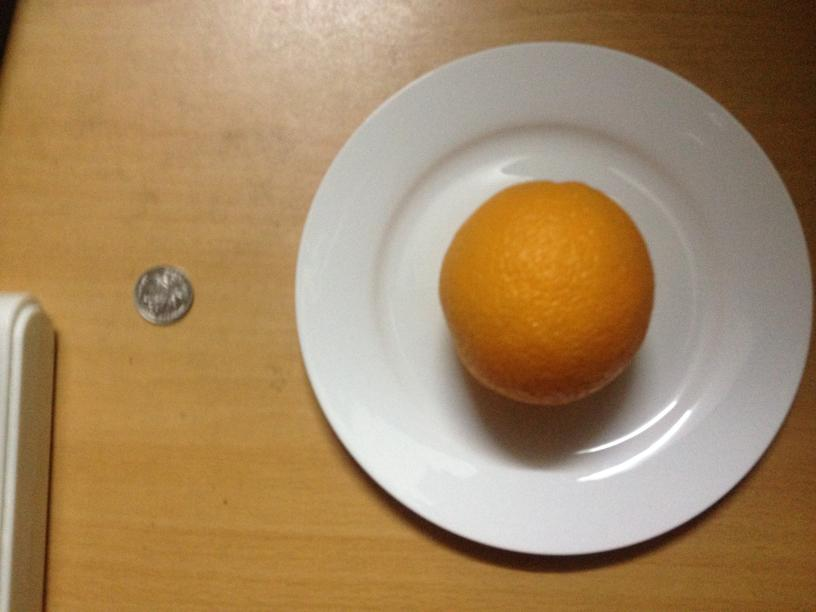coin: (134, 263, 192, 326)
orange: (442, 177, 654, 406)
